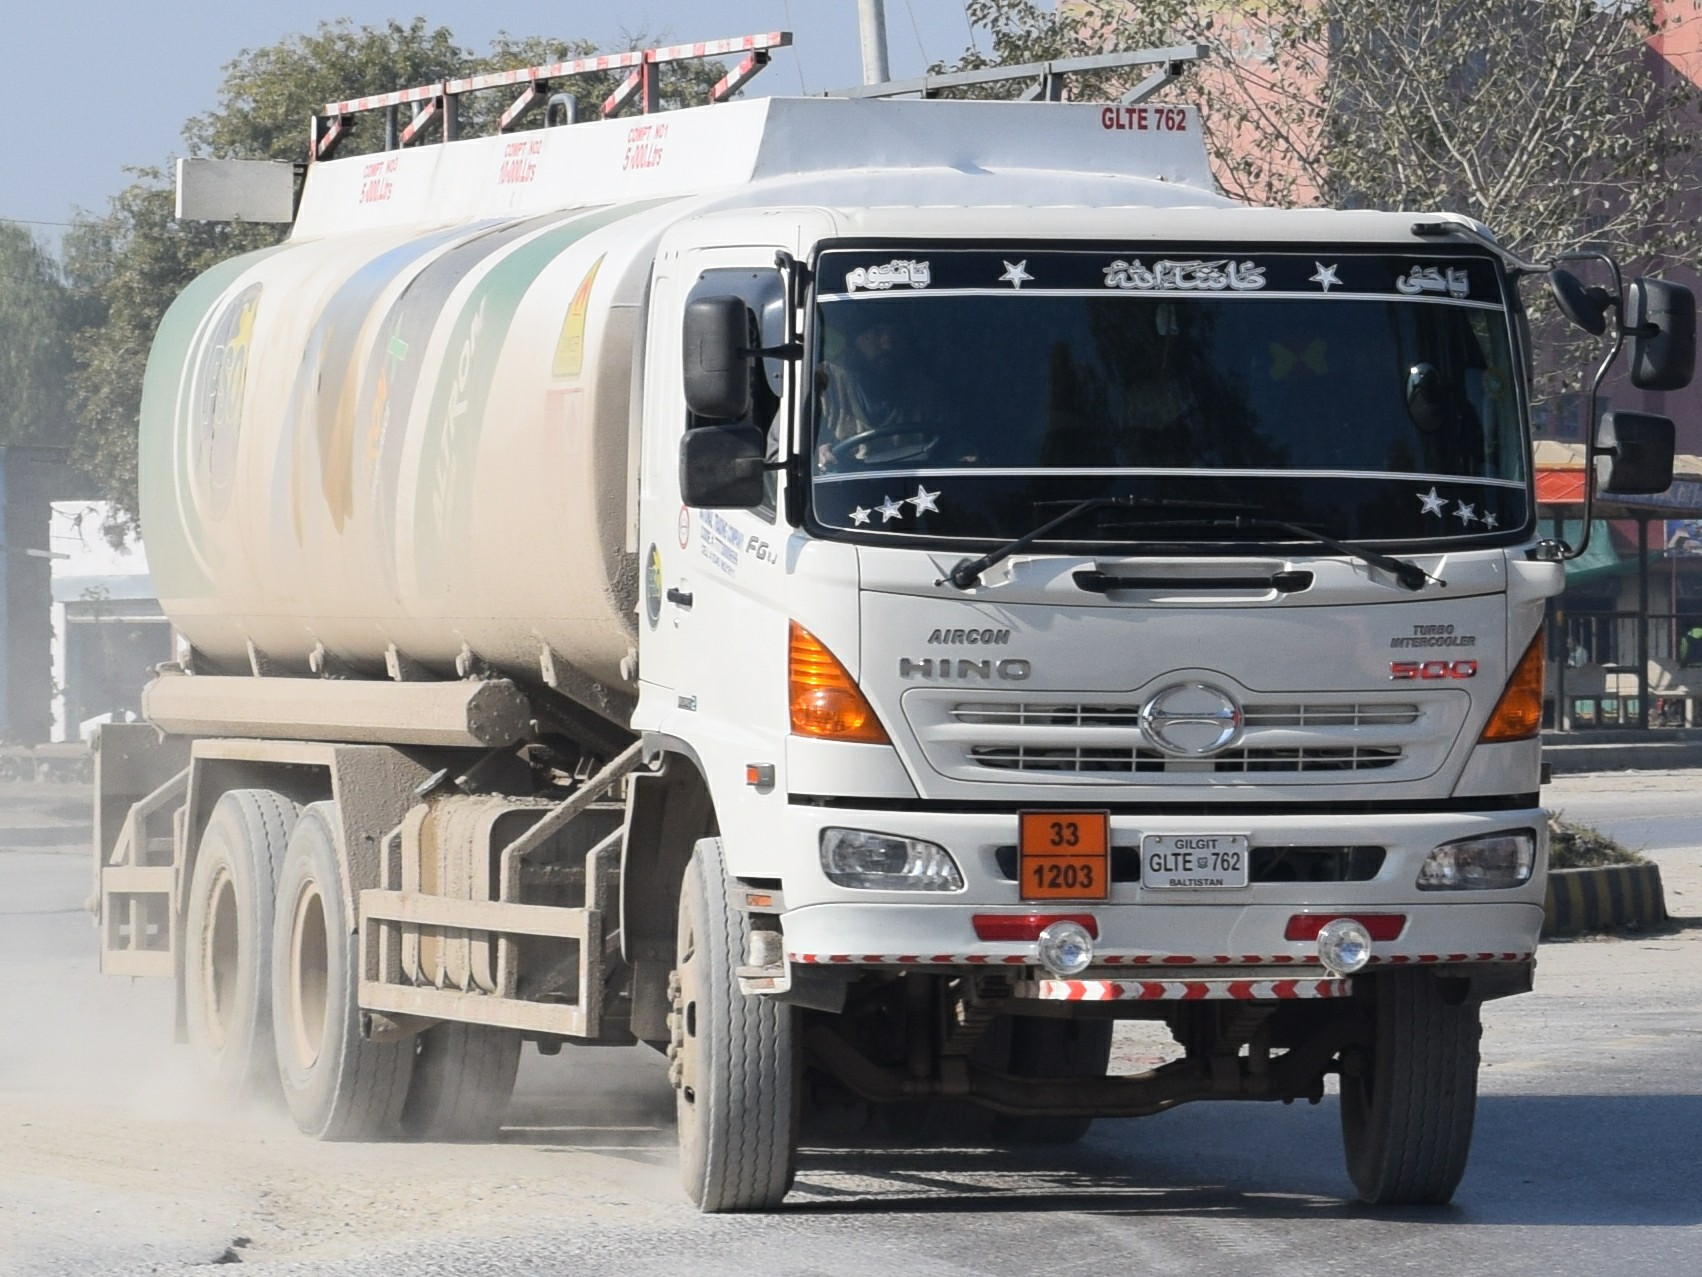person: (1135, 831, 1252, 894)
